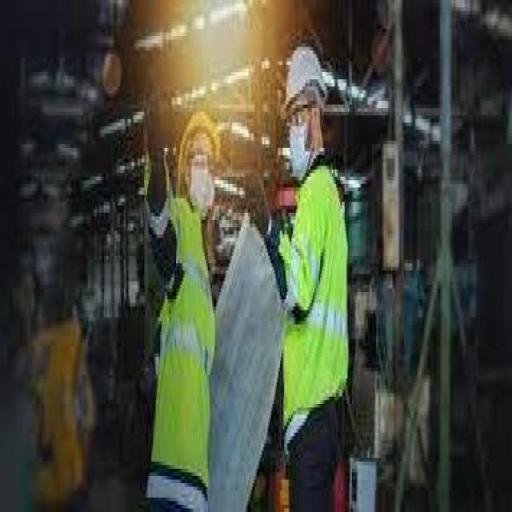helmet: (276, 28, 334, 130), (138, 140, 173, 242)
vest: (140, 194, 225, 505), (271, 162, 361, 454)
